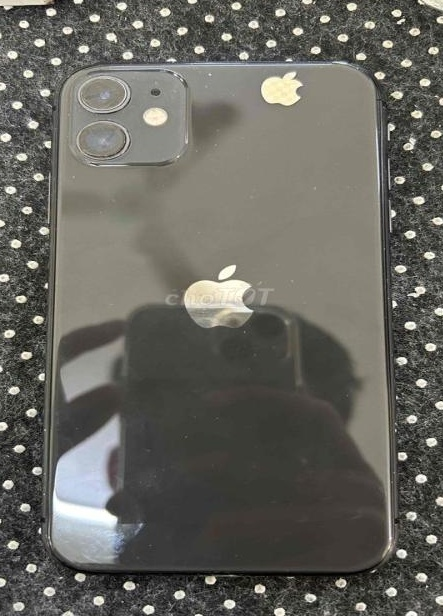scratch: (47, 507, 217, 575)
